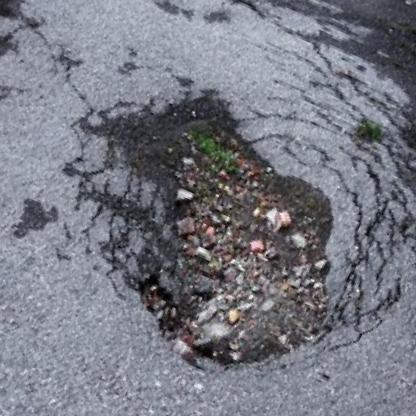pothole: (82, 83, 391, 406)
